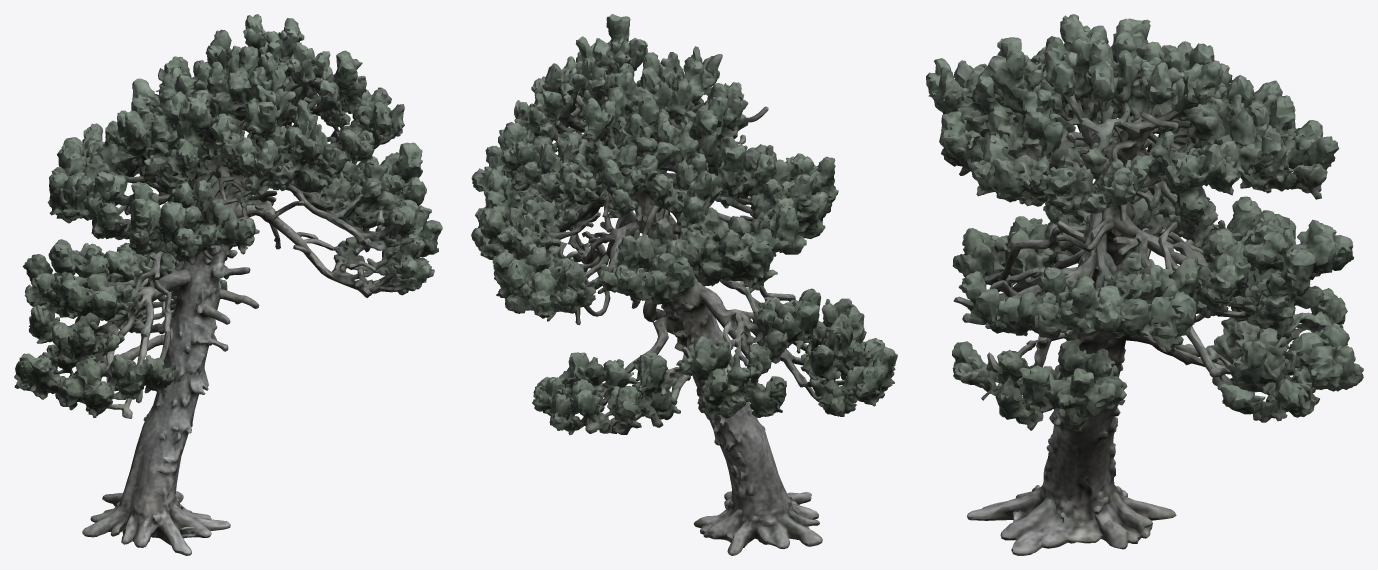
Rendered from alpine-pine-v20.glb.
The picture shows the model from 3 angles, left to right: view 1: azimuth 30°, elevation 25°; view 2: azimuth 150°, elevation 25°; view 3: azimuth 270°, elevation 25°; orthographic projection. The views are drawn at different scales.
Visible parts, largest first — view 1: geometry_0; view 2: geometry_0; view 3: geometry_0.
Boxes of the visible parts, x1,y1,x2,y2 form: geometry_0: [14, 14, 442, 555]; geometry_0: [471, 14, 897, 555]; geometry_0: [926, 14, 1363, 555].
Size of the model in its own units: 3.34 by 3.5 by 2.4.
Materials: 1 (1 with a texture image).
